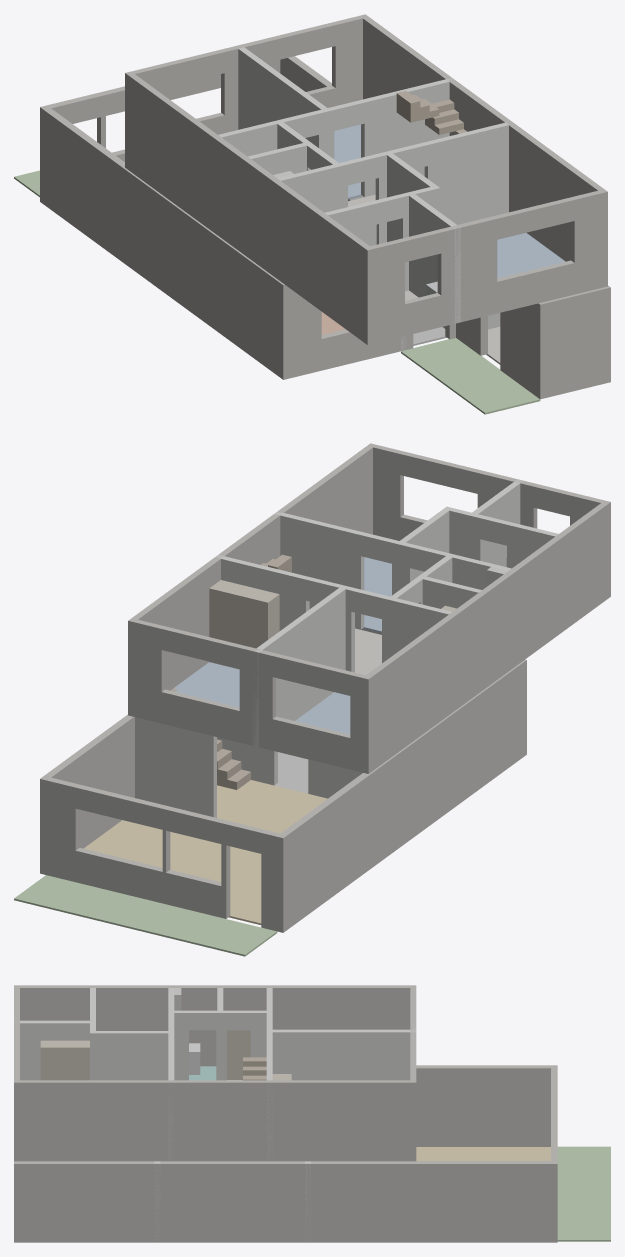
Rendered from PROP_1035.glb.
3 views of the same model, one above another, from view 1: azimuth 30°, elevation 25°; view 2: azimuth 150°, elevation 25°; view 3: azimuth 270°, elevation 25° (orthographic). The views are drawn at different scales.
Visible parts, largest first — view 1: L1_wall_F1_W0, L0_wall_F0_W5, L1_wall_F1_W3, L1_wall_F1_W5, L1_wall_F1_W2, L1_wall_F1_W1, L1_wall_F1_W4, L0_wall_F0_W2, L0_wall_F0_W0, L0_floor_F0_R0_0, L1_wall_F1_W11, L0_wall_F0_W1 (+11 smaller); view 2: L1_wall_F1_W0, L0_wall_F0_W5, L1_wall_F1_W1, L0_wall_F0_W4, L1_wall_F1_W2, L0_floor_F0_R2_0, L1_wall_F1_W5, L1_wall_F1_W3, L0_floor_F0_R3_0, L1_wall_F1_W4, L0_wall_F0_W12, L1_wall_F1_W11 (+17 smaller); view 3: L0_wall_F0_W3, L1_wall_F1_W2, L1_wall_F1_W0, L0_wall_F0_W5, L1_wall_F1_W11, L0_floor_F0_R3_0, L1_wall_F1_W6, L1_wall_F1_W9, L1_wall_F1_W8, L0_floor_F0_R2_0, L1_fixture_F1_X11, L1_wall_F1_W4 (+8 smaller).
Boxes of the visible parts, box(x1,y1,x2,y2) form: L1_wall_F1_W0: box(125, 73, 369, 344); L0_wall_F0_W5: box(40, 107, 283, 379); L1_wall_F1_W3: box(367, 190, 607, 344); L1_wall_F1_W5: box(277, 122, 509, 244); L1_wall_F1_W2: box(363, 14, 607, 261); L1_wall_F1_W1: box(126, 14, 365, 134); L1_wall_F1_W4: box(218, 78, 454, 197); L0_wall_F0_W2: box(540, 287, 610, 399); L0_wall_F0_W0: box(283, 284, 455, 379); L0_floor_F0_R0_0: box(401, 338, 540, 414); L1_wall_F1_W11: box(237, 46, 331, 156); L0_wall_F0_W1: box(456, 303, 540, 398); L1_wall_F1_W0: box(366, 502, 610, 773); L0_wall_F0_W5: box(280, 660, 526, 932); L1_wall_F1_W1: box(128, 619, 368, 773); L0_wall_F0_W4: box(40, 777, 283, 932); L1_wall_F1_W2: box(128, 443, 372, 690); L0_floor_F0_R2_0: box(84, 780, 327, 924); L1_wall_F1_W5: box(274, 511, 511, 629); L1_wall_F1_W3: box(371, 443, 609, 540); L0_floor_F0_R3_0: box(14, 875, 277, 956); L1_wall_F1_W4: box(215, 555, 451, 672); L0_wall_F0_W12: box(135, 717, 216, 817); L1_wall_F1_W11: box(252, 585, 348, 747); L0_wall_F0_W3: box(14, 1161, 557, 1242); L1_wall_F1_W2: box(14, 1080, 416, 1161); L1_wall_F1_W0: box(14, 985, 415, 1066); L0_wall_F0_W5: box(416, 1065, 557, 1146); L1_wall_F1_W11: box(267, 1029, 416, 1080); L0_floor_F0_R3_0: box(557, 1146, 610, 1241); L1_wall_F1_W6: box(90, 1031, 168, 1080); L1_wall_F1_W9: box(168, 1010, 266, 1080); L1_wall_F1_W8: box(14, 1020, 89, 1080); L0_floor_F0_R2_0: box(416, 1147, 550, 1160); L1_fixture_F1_X11: box(40, 1040, 74, 1080); L1_wall_F1_W4: box(266, 988, 272, 1161).
Bounding box in the file's own units: 7.26 × 5.55 × 18.59.
